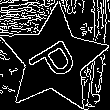P_NE: (23, 30, 84, 88)
